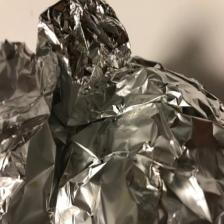metal: (0, 2, 220, 224)
